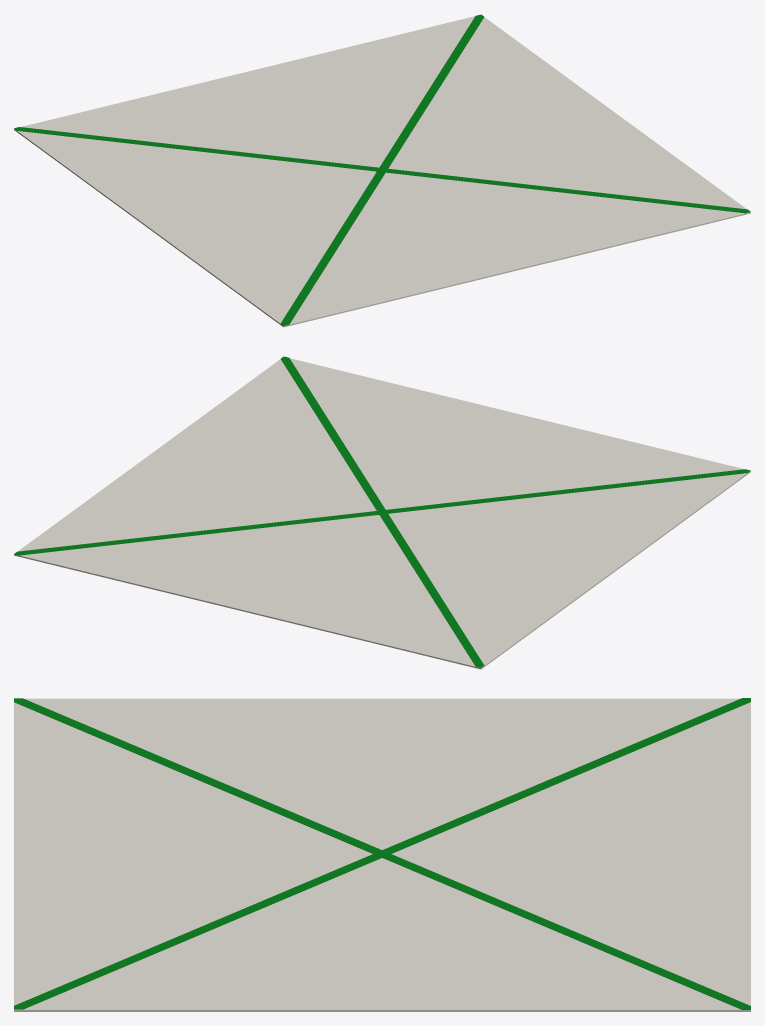
File: green_x.obj
The picture shows the model from 3 angles, top to bottom: view 1: azimuth 30°, elevation 25°; view 2: azimuth 150°, elevation 25°; view 3: azimuth 270°, elevation 25°; orthographic projection. The views are drawn at different scales.
Parts seen in each view (by area): view 1: White_Target_Board, Green_Diagonal_B, Green_Diagonal_A; view 2: White_Target_Board, Green_Diagonal_A, Green_Diagonal_B; view 3: White_Target_Board, Green_Diagonal_B, Green_Diagonal_A.
Boxes of the visible parts, x1,y1,x2,y2 form: White_Target_Board: [14, 16, 750, 327]; Green_Diagonal_B: [14, 127, 750, 213]; Green_Diagonal_A: [280, 14, 483, 325]; White_Target_Board: [14, 358, 750, 669]; Green_Diagonal_A: [14, 469, 750, 555]; Green_Diagonal_B: [281, 356, 484, 667]; White_Target_Board: [14, 698, 750, 1011]; Green_Diagonal_B: [14, 698, 750, 1009]; Green_Diagonal_A: [14, 698, 750, 1009].
Bounding box in the file's own units: 3.54 × 0.0124 × 3.54.
